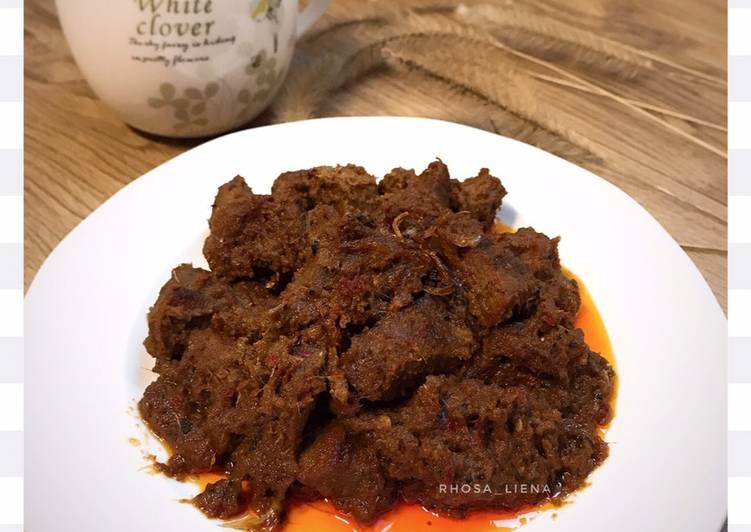rendang: (156, 170, 603, 525)
